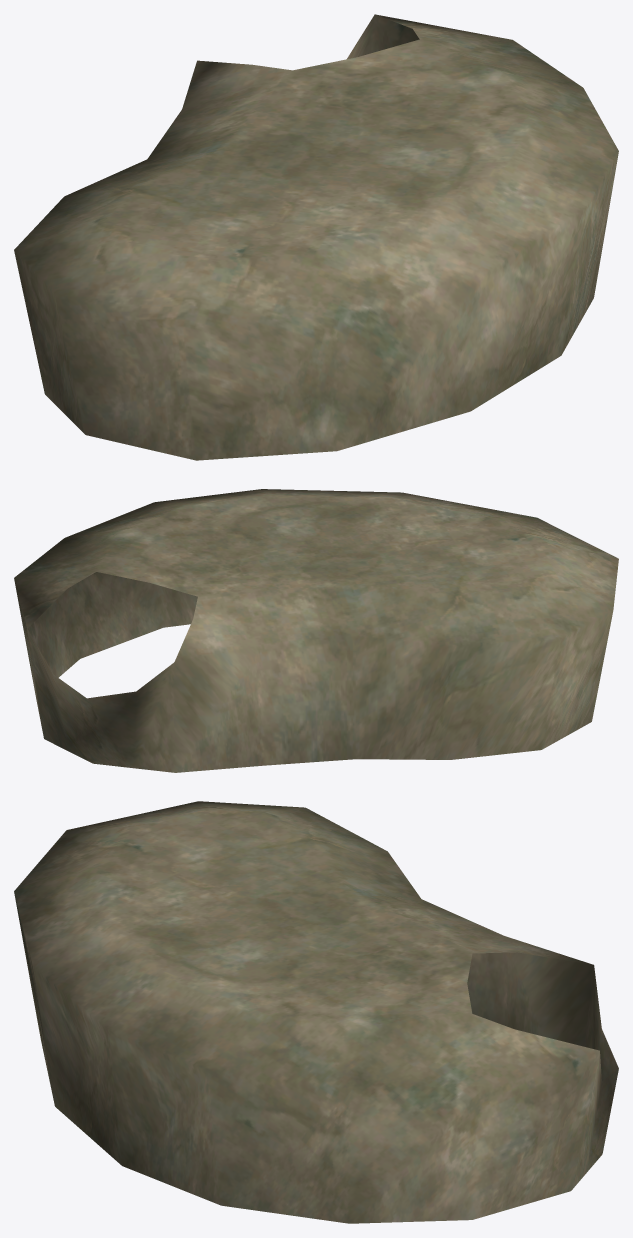
File: EKH_CAVERNS_PS_CA_ROCK_002.fbx
3 renders of one model, top to bottom at view 1: azimuth 30°, elevation 25°; view 2: azimuth 150°, elevation 25°; view 3: azimuth 270°, elevation 25°, orthographic. The views are drawn at different scales.
Parts seen in each view (by area): view 1: EKH_CAVERNS_PS_CA_ROCK_002; view 2: EKH_CAVERNS_PS_CA_ROCK_002; view 3: EKH_CAVERNS_PS_CA_ROCK_002.
Part boxes in pixels (x1,y1,x2,y2): EKH_CAVERNS_PS_CA_ROCK_002: (14, 14, 618, 460); EKH_CAVERNS_PS_CA_ROCK_002: (14, 489, 618, 772); EKH_CAVERNS_PS_CA_ROCK_002: (14, 801, 618, 1223).
Size of the model in its own units: 49182 by 13573 by 43653.
Materials: 1 (1 with a texture image).
